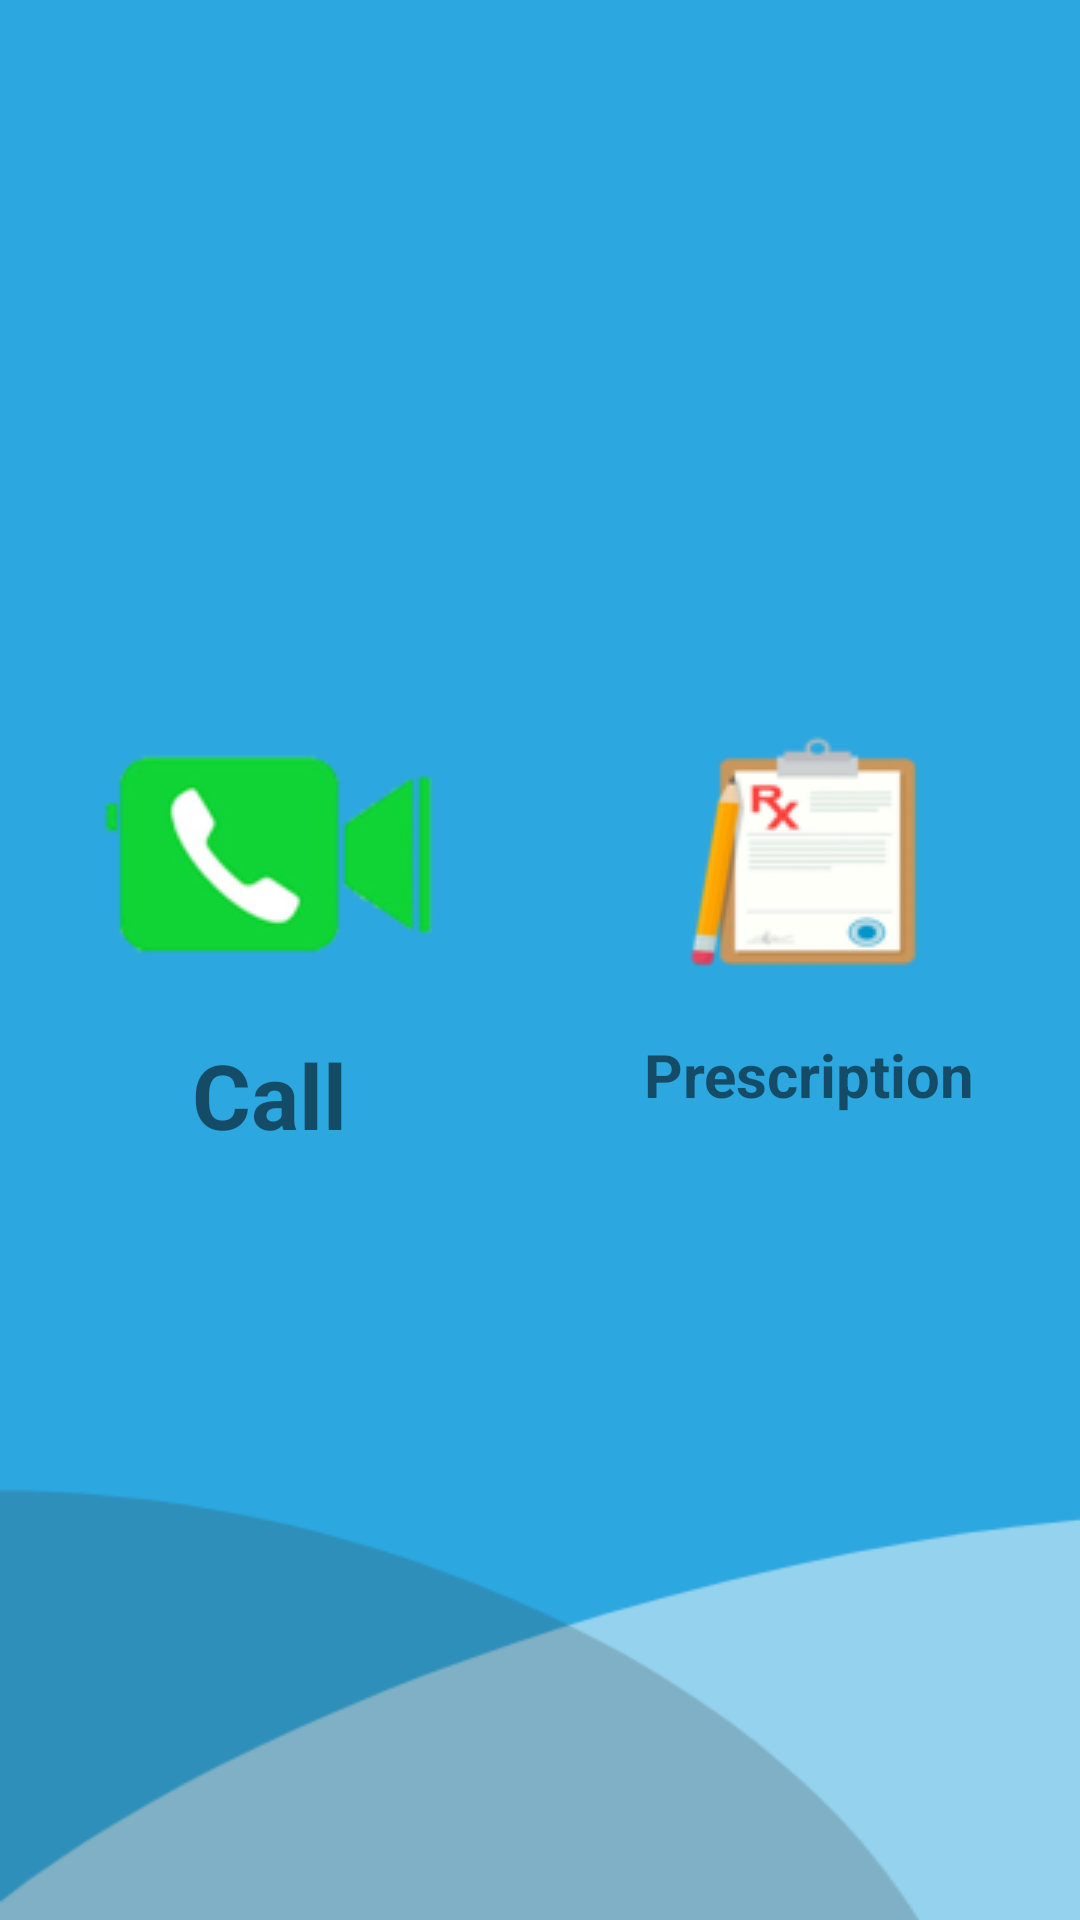

Point at icon controls on the screen. Image size 1080×1920, points as point (x, y).
videobutton: point (268, 854)
